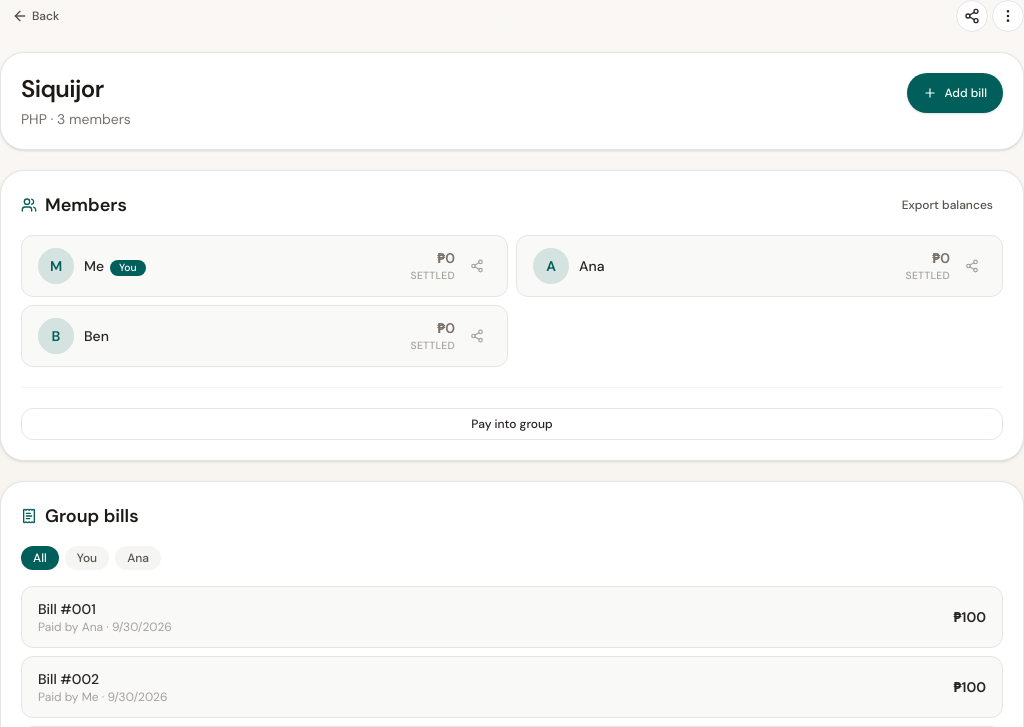
Test case: GroupDetailPage bills, server-paged › C8/C21: opening Share group summary fetches the full list once and the card shows every bill
The image size is (1024, 727).
Click the button named "Share group summary" at (972, 16), box [956,0,988,32]
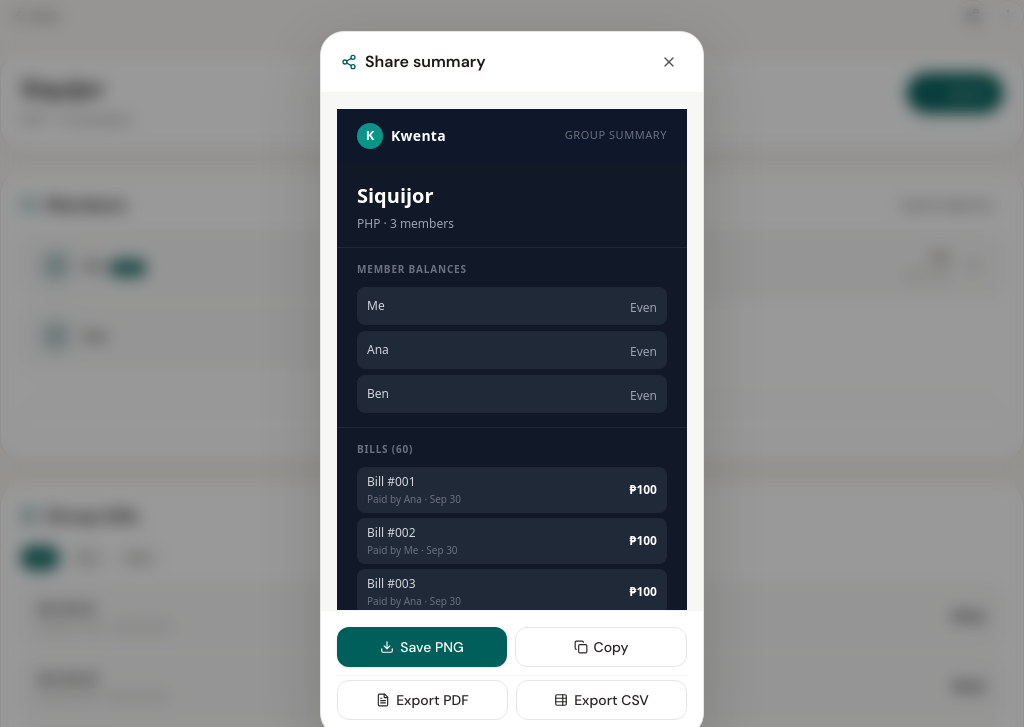
Expected: the text "Bills (60)" is shown, [357,442,413,456]
Expected: the button "Save PNG" is enabled, [337,627,507,667]
